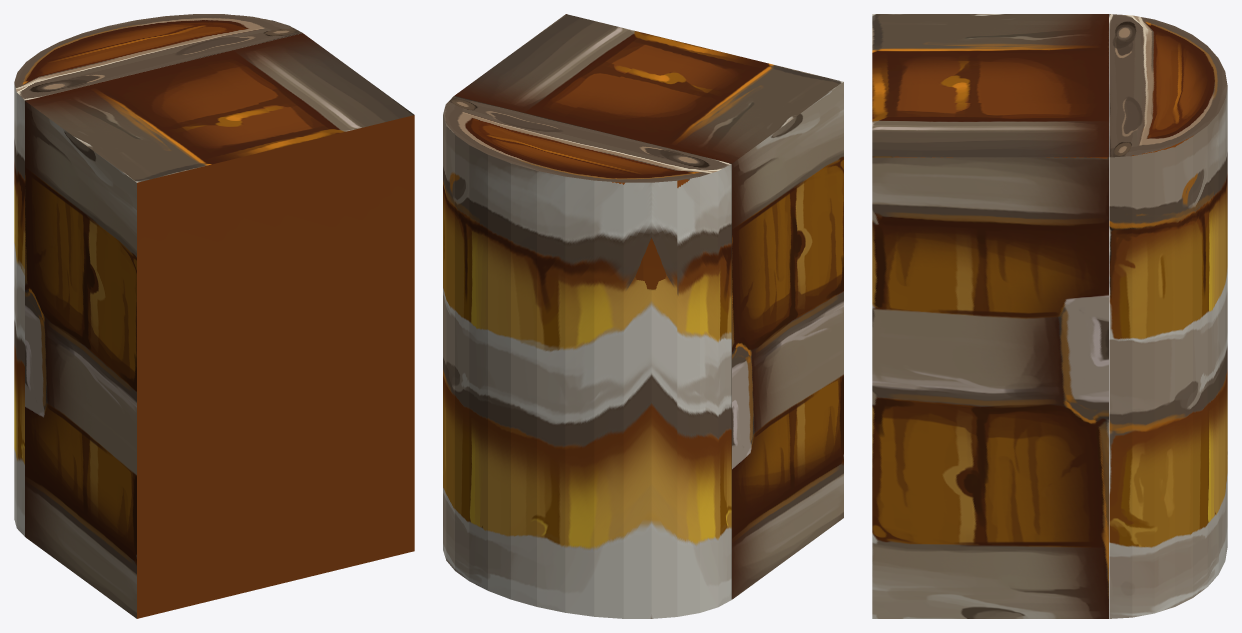
File: TreasureСhest.fbx
3 renders of one model, left to right at view 1: azimuth 30°, elevation 25°; view 2: azimuth 150°, elevation 25°; view 3: azimuth 270°, elevation 25°, orthographic. The views are drawn at different scales.
Parts seen in each view (by area): view 1: Box, Lid; view 2: Lid, Box; view 3: Box, Lid.
Boxes of the visible parts, x1=… form: Box: x1=25, y1=33, x2=414, y2=618; Lid: x1=14, y1=14, x2=302, y2=536; Lid: x1=443, y1=96, x2=731, y2=618; Box: x1=454, y1=14, x2=843, y2=599; Box: x1=872, y1=14, x2=1108, y2=618; Lid: x1=1109, y1=14, x2=1227, y2=618.
Size of the model in its own units: 200 by 300 by 209.
